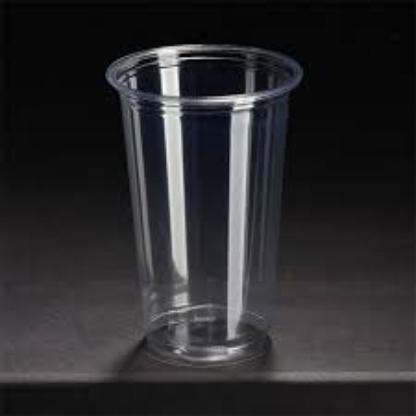Plastic Cup: (106, 44, 302, 368)
